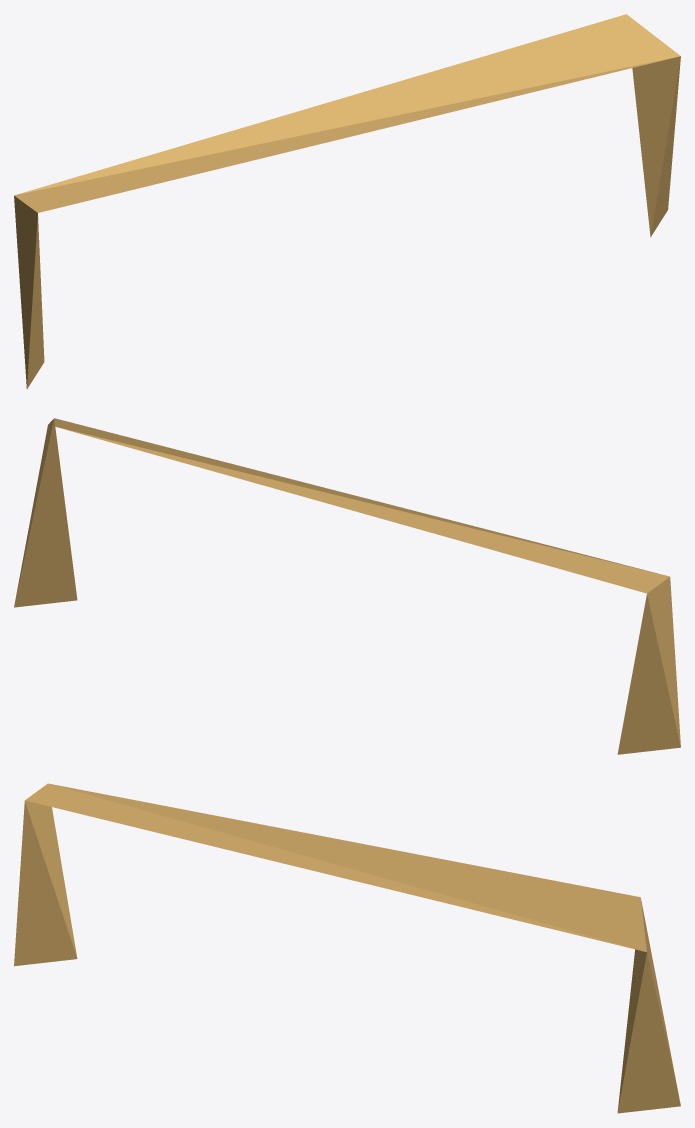
The model's file is rail.lod.glb.
3 renders of one model, top to bottom at view 1: azimuth 30°, elevation 25°; view 2: azimuth 150°, elevation 25°; view 3: azimuth 330°, elevation 25°, orthographic. The views are drawn at different scales.
Visible parts, largest first — view 1: rail; view 2: rail; view 3: rail.
Part boxes in pixels (bbox=[...]): rail: bbox=[14, 14, 680, 388]; rail: bbox=[14, 418, 680, 754]; rail: bbox=[14, 783, 680, 1113].
Size of the model in its own units: 0.8 by 0.2367 by 0.05.
